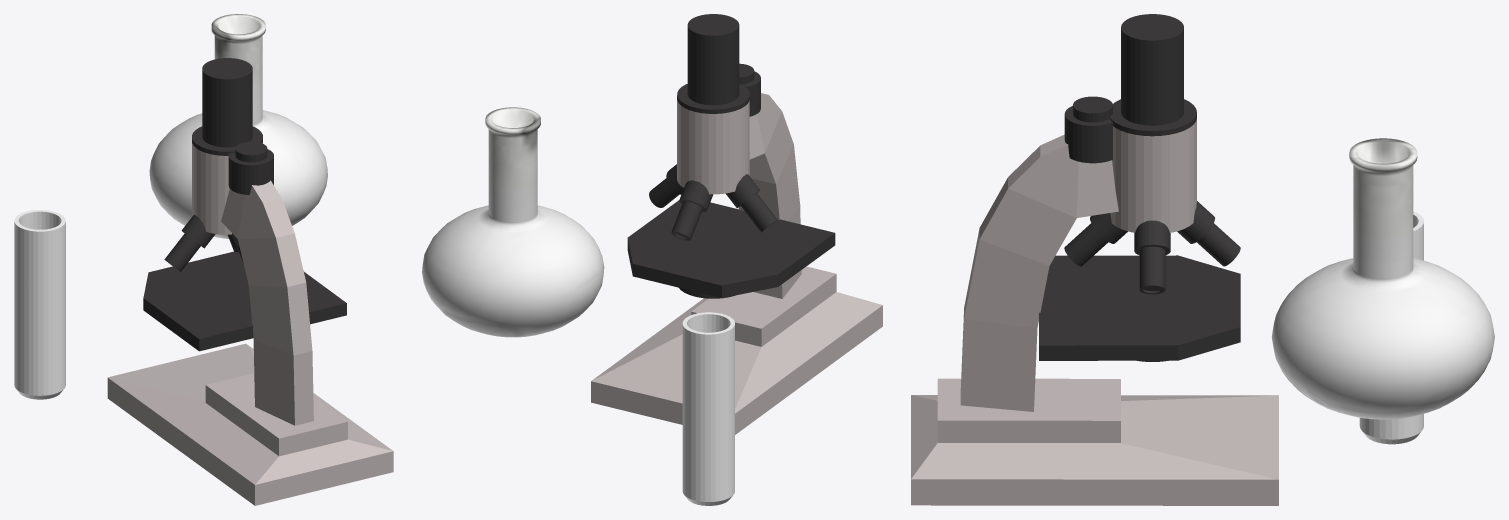
The model's file is laboratory.glb.
3 renders of one model, left to right at view 1: azimuth 30°, elevation 25°; view 2: azimuth 150°, elevation 25°; view 3: azimuth 270°, elevation 25°, orthographic. The views are drawn at different scales.
Parts seen in each view (by area): view 1: Sphere; view 2: Sphere; view 3: Sphere.
Boxes of the visible parts, <box> form: Sphere: <box>14,14,393,505</box>; Sphere: <box>422,14,882,505</box>; Sphere: <box>911,14,1494,505</box>.
Bounding box in the file's own units: 0.6689 × 0.8047 × 0.9194.
Materials: 4 (3 with a texture image).
